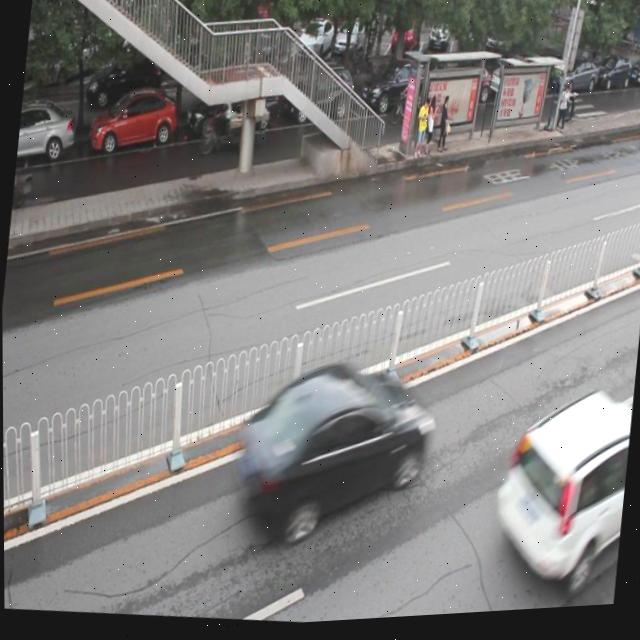car: (223, 355, 437, 555), (483, 385, 634, 603), (85, 79, 180, 160), (184, 66, 279, 144), (281, 63, 355, 132), (359, 56, 435, 123), (16, 95, 76, 166)
